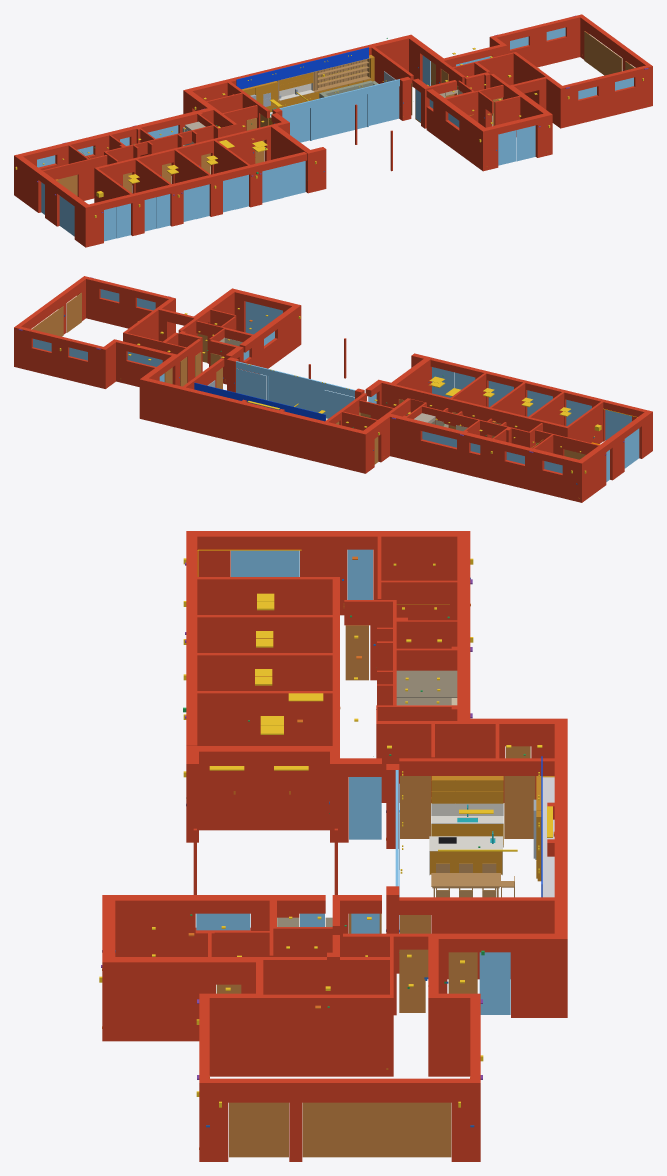
The model's file is ground_floor.glb.
3 views of the same model, one above another, from view 1: azimuth 30°, elevation 25°; view 2: azimuth 150°, elevation 25°; view 3: azimuth 270°, elevation 25° (orthographic). The views are drawn at different scales.
Visible parts, largest first — view 1: masonry__W-002__, masonry__W-005__, masonry__W-013__, masonry__W-030__, masonry__W-054__, masonry__W-026__, masonry__W-027__, masonry__W-029__, glazing__WIN-OP28__, soffit_naturheld_140__SOFFIT-1.02-FACE__, glazing__WIN-OP21__ (×2), masonry__W-001__ (+38 smaller); view 2: masonry__W-029__, masonry__W-026__, masonry__W-027__, masonry__W-005__, masonry__W-030__, masonry__W-013__, masonry__W-054__, masonry__W-002__, masonry__W-025__, glazing__WIN-OP28__, masonry__W-067__, masonry__W-022__ (+31 smaller); view 3: masonry__W-049__, masonry__W-066__, masonry__W-067__, masonry__W-063__, masonry__W-030__, door__D-OP50__, masonry__W-054__, masonry__W-044__, masonry__W-060__, masonry__W-056__, masonry__W-034__, masonry__W-041__ (+41 smaller).
Boxes of the visible parts, left/top/right/bottom form: masonry__W-002__: left=89, top=152, right=307, bottom=245; masonry__W-005__: left=558, top=65, right=648, bottom=128; masonry__W-013__: left=94, top=125, right=270, bottom=202; masonry__W-030__: left=17, top=156, right=91, bottom=247; masonry__W-054__: left=426, top=89, right=488, bottom=171; masonry__W-026__: left=14, top=107, right=216, bottom=197; masonry__W-027__: left=489, top=15, right=580, bottom=67; masonry__W-029__: left=183, top=34, right=413, bottom=113; glazing__WIN-OP28__: left=312, top=94, right=367, bottom=140; soffit_naturheld_140__SOFFIT-1.02-FACE__: left=236, top=47, right=368, bottom=89; glazing__WIN-OP21__ (×2): left=262, top=161, right=305, bottom=202; masonry__W-001__: left=485, top=113, right=546, bottom=169; masonry__W-029__: left=139, top=377, right=368, bottom=473; masonry__W-026__: left=385, top=413, right=585, bottom=502; masonry__W-027__: left=18, top=326, right=107, bottom=388; masonry__W-005__: left=86, top=277, right=175, bottom=333; masonry__W-030__: left=580, top=410, right=652, bottom=500; masonry__W-013__: left=394, top=384, right=569, bottom=437; masonry__W-054__: left=239, top=304, right=301, bottom=374; masonry__W-002__: left=430, top=358, right=646, bottom=441; masonry__W-025__: left=112, top=339, right=173, bottom=386; glazing__WIN-OP28__: left=268, top=376, right=322, bottom=413; masonry__W-067__: left=14, top=276, right=88, bottom=367; masonry__W-022__: left=422, top=406, right=530, bottom=447; masonry__W-049__: left=186, top=746, right=339, bottom=830; masonry__W-066__: left=263, top=994, right=393, bottom=1076; masonry__W-067__: left=199, top=1078, right=480, bottom=1161; masonry__W-063__: left=102, top=957, right=263, bottom=1041; masonry__W-030__: left=186, top=531, right=457, bottom=615; door__D-OP50__: left=302, top=1102, right=451, bottom=1157; masonry__W-054__: left=102, top=895, right=325, bottom=956; masonry__W-044__: left=197, top=691, right=332, bottom=745; masonry__W-060__: left=428, top=933, right=554, bottom=1017; masonry__W-056__: left=399, top=897, right=554, bottom=979; masonry__W-034__: left=197, top=615, right=332, bottom=652; masonry__W-041__: left=197, top=653, right=332, bottom=690.
Size of the model in its own units: 45.25 by 4.87 by 16.15.
